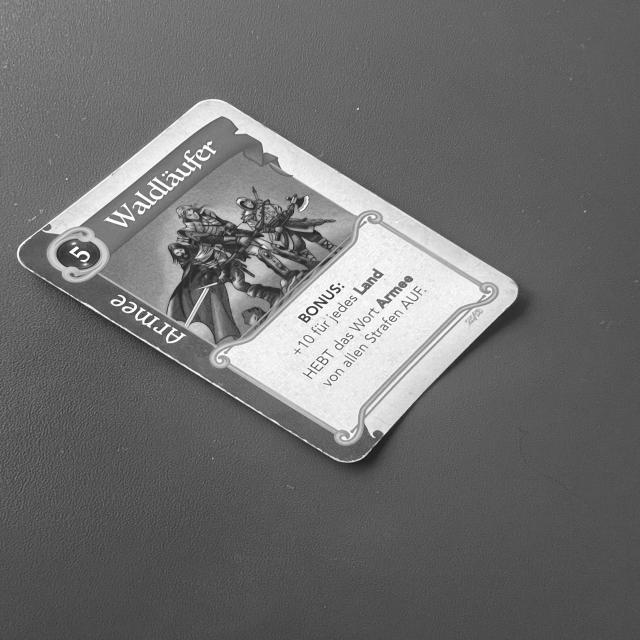Rangers: (3, 93, 531, 474)
